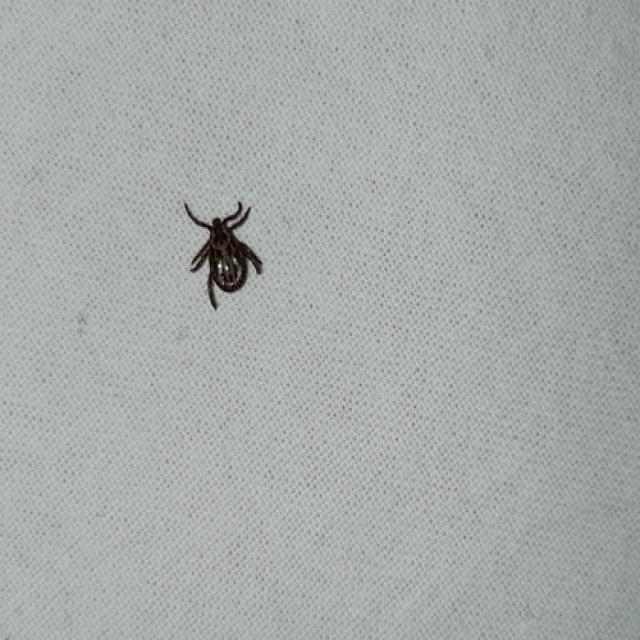Dermacentor Reticulatus-M: (184, 203, 262, 309)
